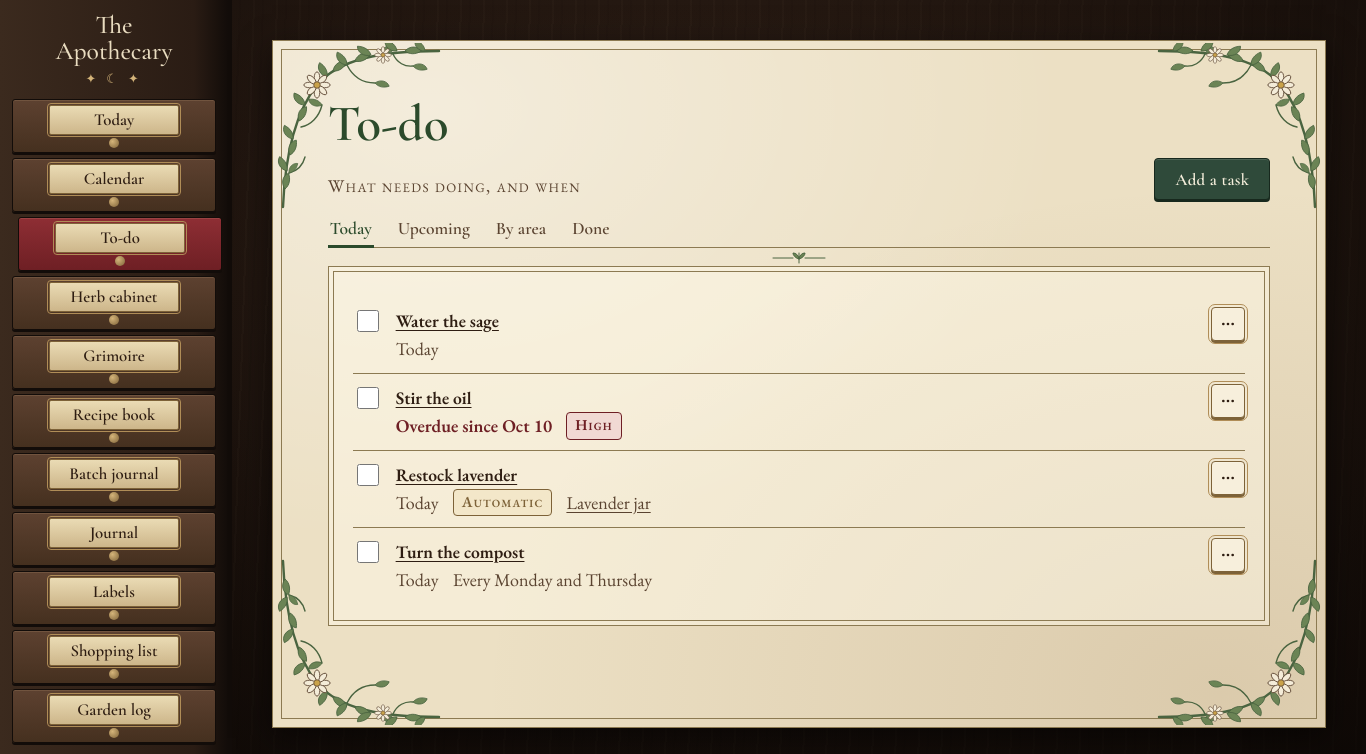
Test: offers Dismiss only on automatic tasks and Delete only on manual ones
Expected: the link "Water the sage" is shown, x1=396 y1=309 x2=499 y2=332
Click the button named "Actions for Water the sage" at (1228, 324), box x1=1211 y1=307 x2=1245 y2=341
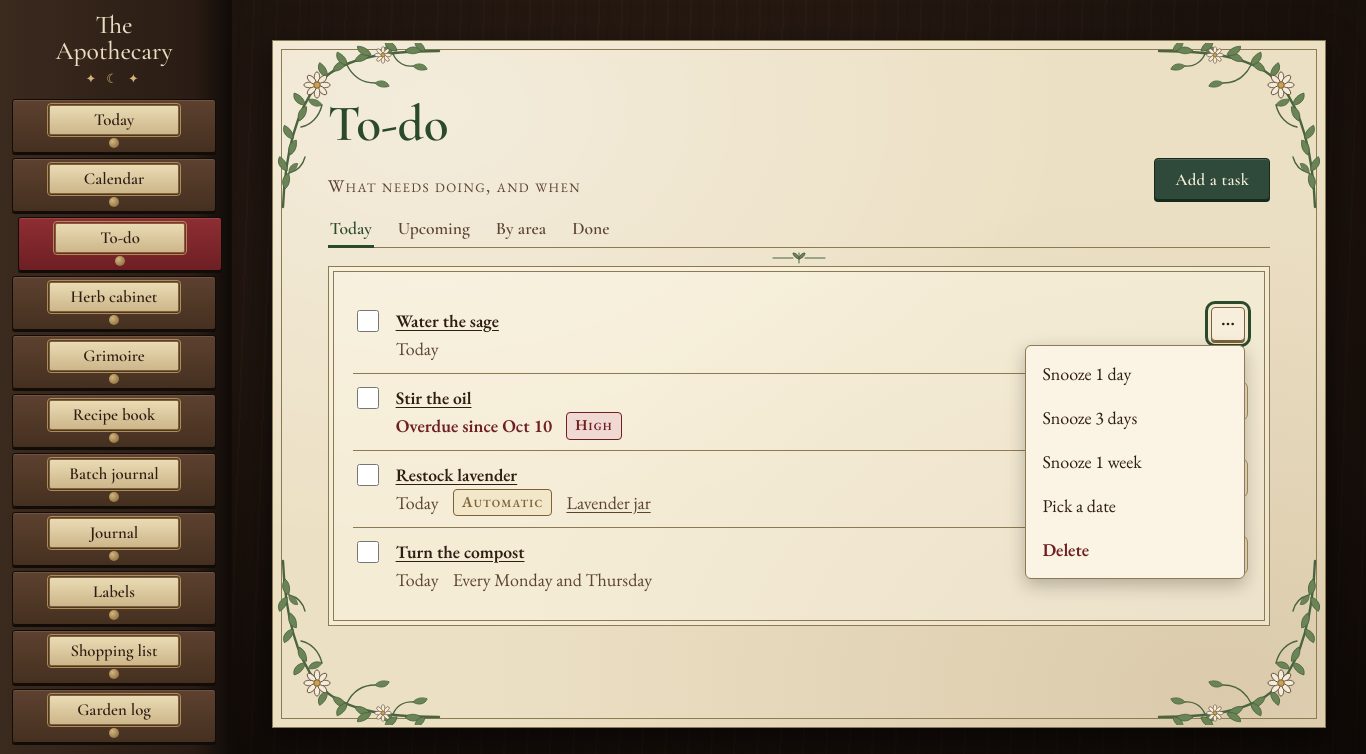
Expected: the button "Dismiss" is not shown
Now the button "Delete" is shown, box x1=1032 y1=528 x2=1238 y2=572
Press Escape
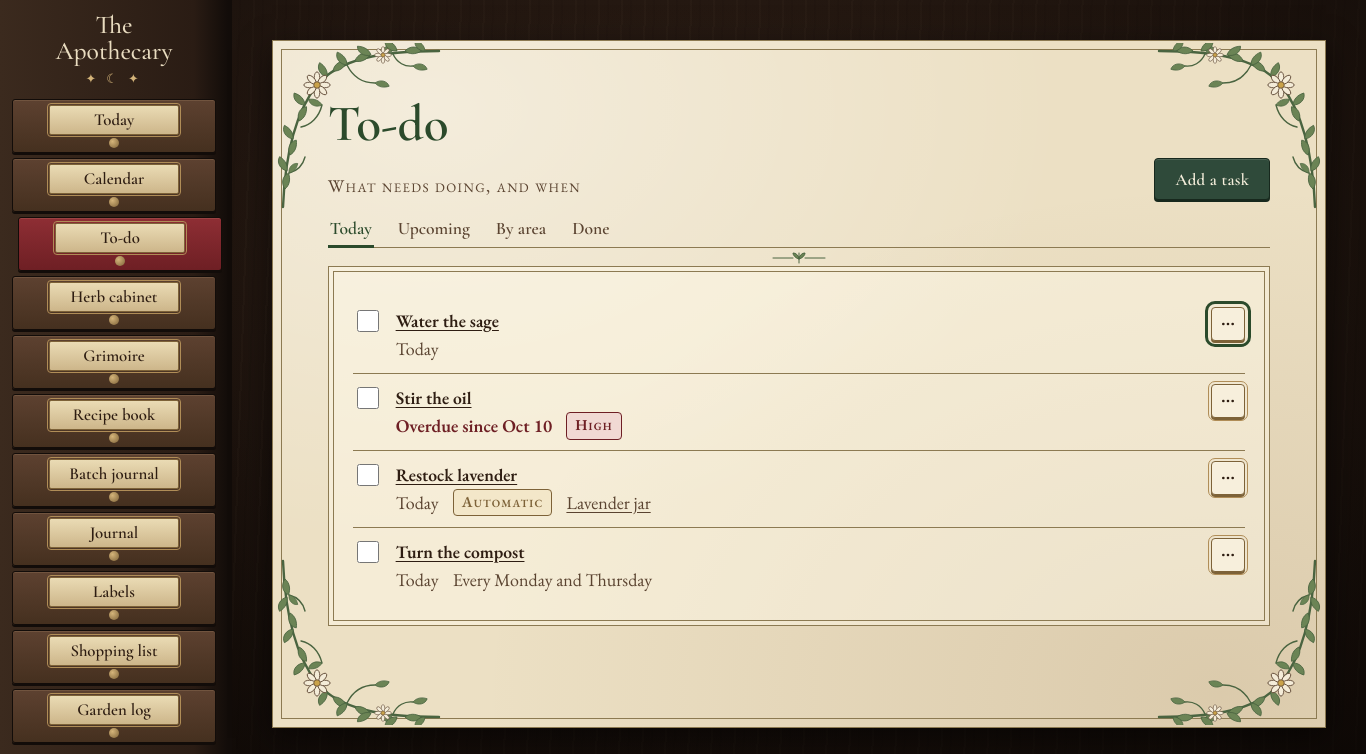
Click the button named "Actions for Restock lavender" at (1228, 478), box x1=1211 y1=461 x2=1245 y2=495
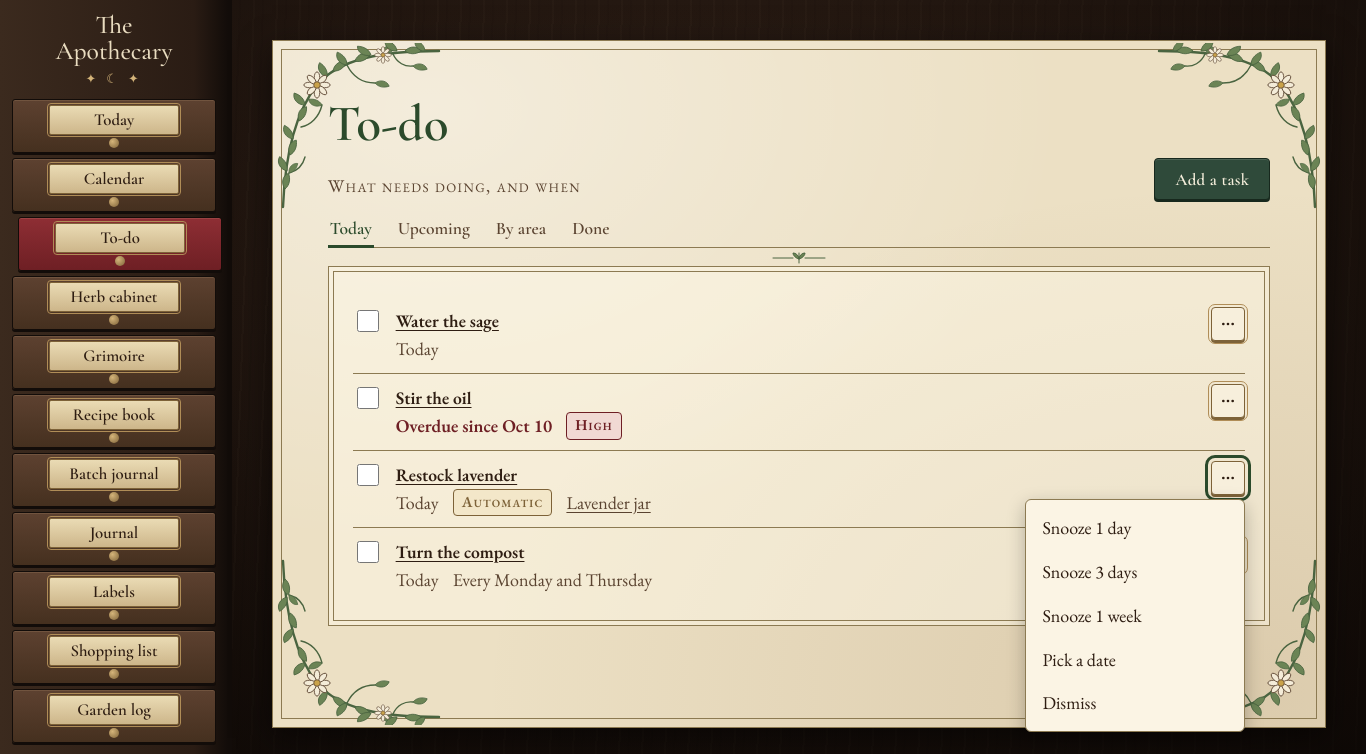
Expected: the button "Delete" is not shown
Now the button "Dismiss" is shown, box x1=1032 y1=681 x2=1238 y2=725
